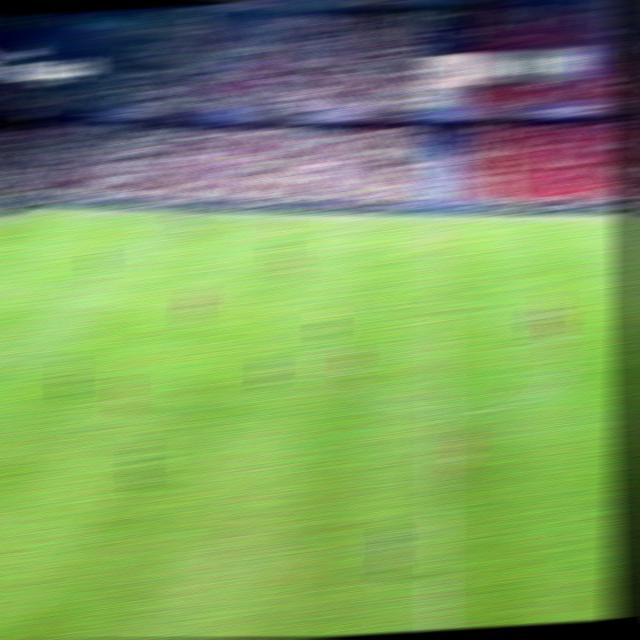bigarea_top_inner: (106, 248, 126, 257)
corner: (27, 207, 47, 213)
halfcircle_bottom: (425, 400, 456, 423)
halfcircle_top: (427, 294, 460, 315)
top_arc_area_intersection: (52, 294, 73, 302)
